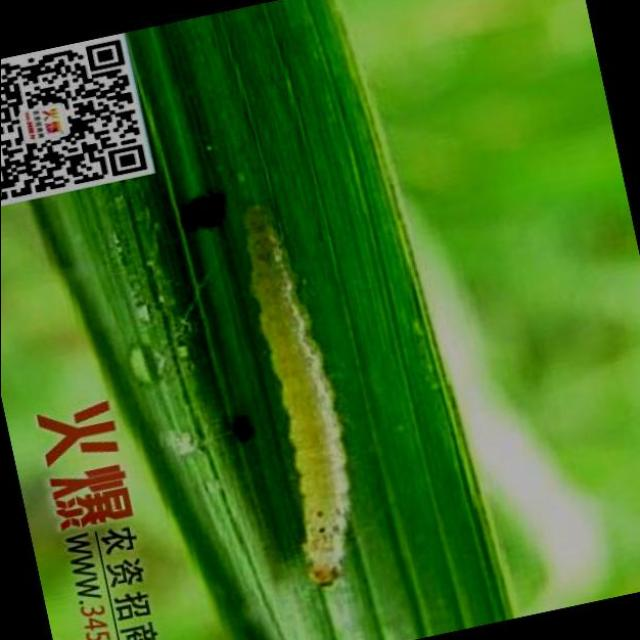leaf folder: (244, 207, 349, 586)
